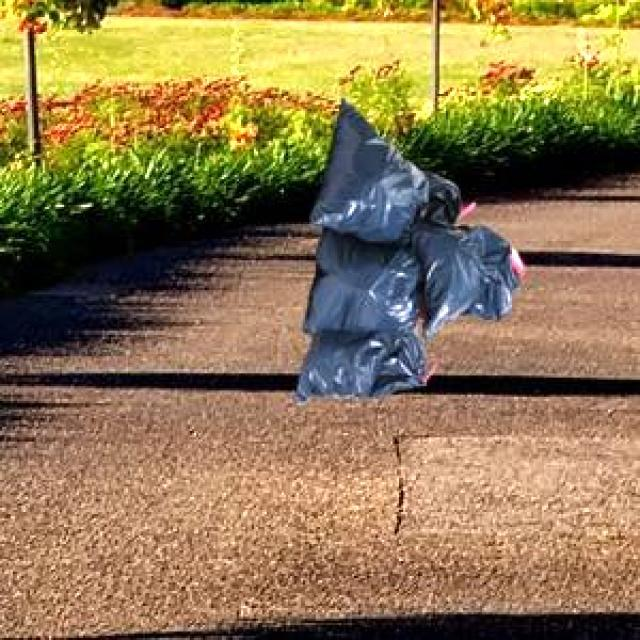Garbage_Bag: (291, 97, 520, 402)
